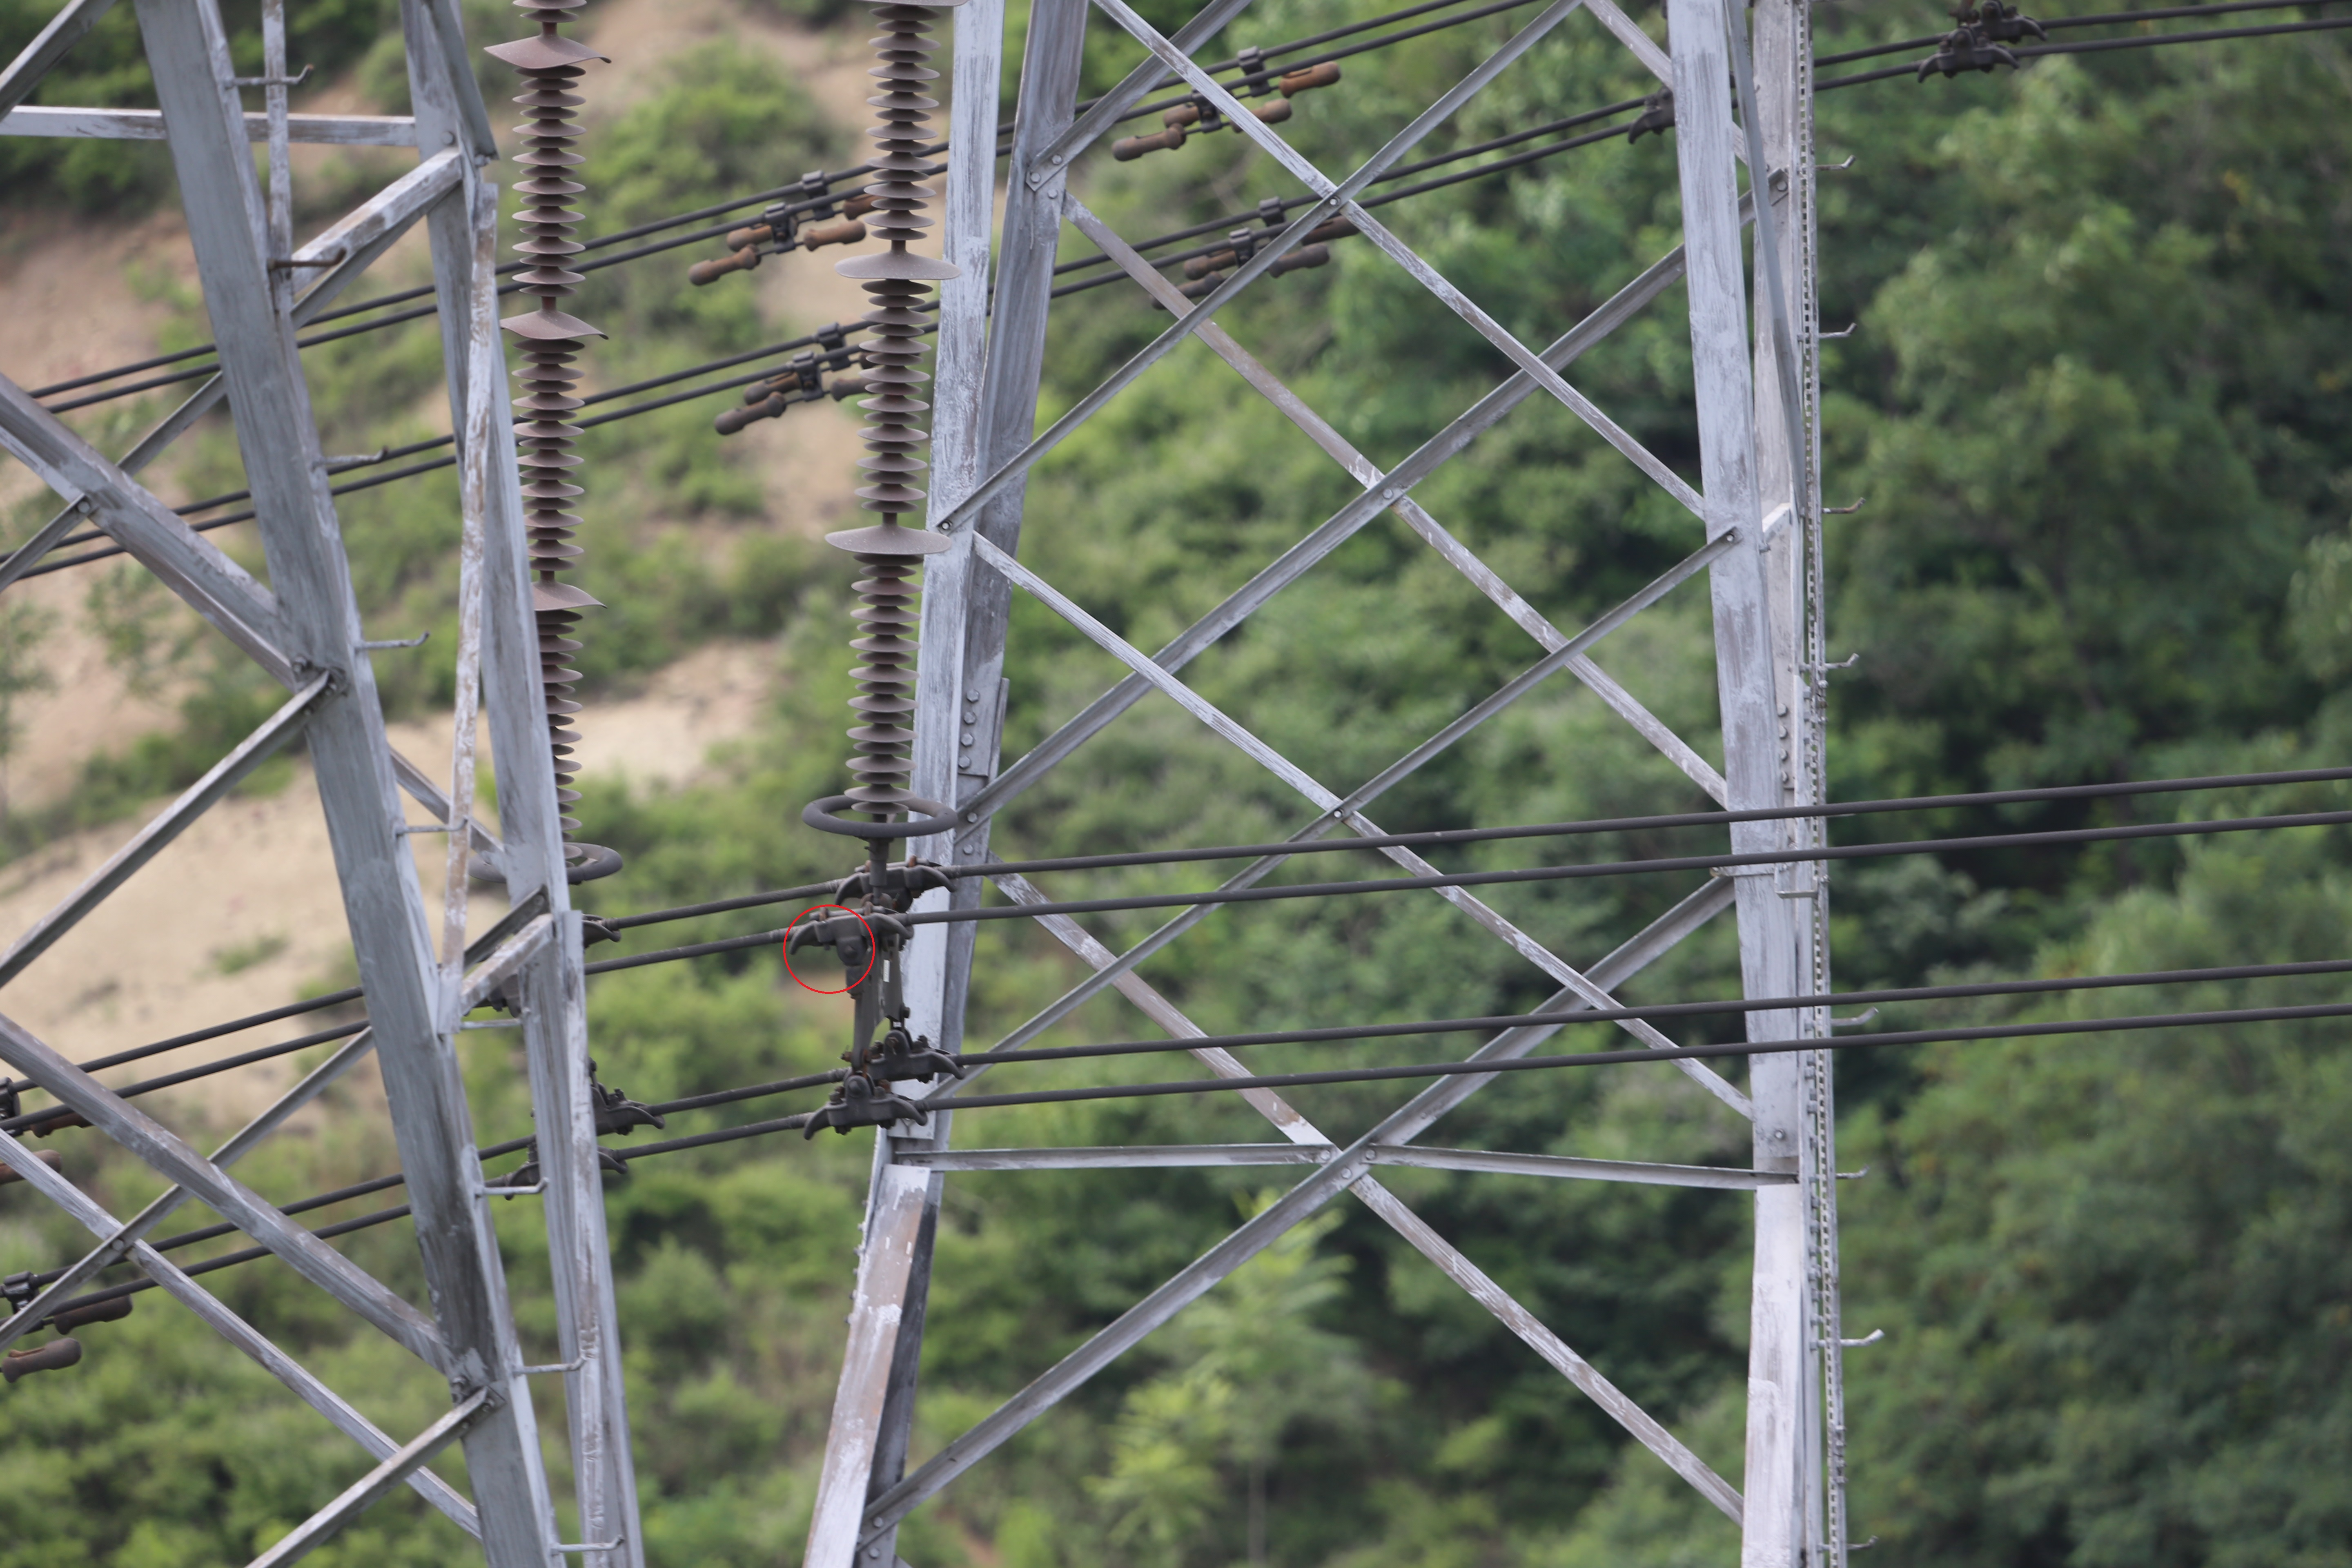bag-type suspension clamp: (784, 903, 915, 1003), (800, 1050, 931, 1148), (864, 997, 968, 1092), (835, 856, 959, 917), (581, 1052, 665, 1139), (1920, 21, 2023, 86)
grading ring: (801, 786, 959, 850)
shockproof hammer: (1183, 189, 1374, 278), (1134, 226, 1333, 306), (1106, 94, 1309, 166), (688, 208, 866, 289), (714, 350, 871, 439), (724, 170, 910, 243), (1174, 40, 1340, 121), (744, 318, 894, 397)
